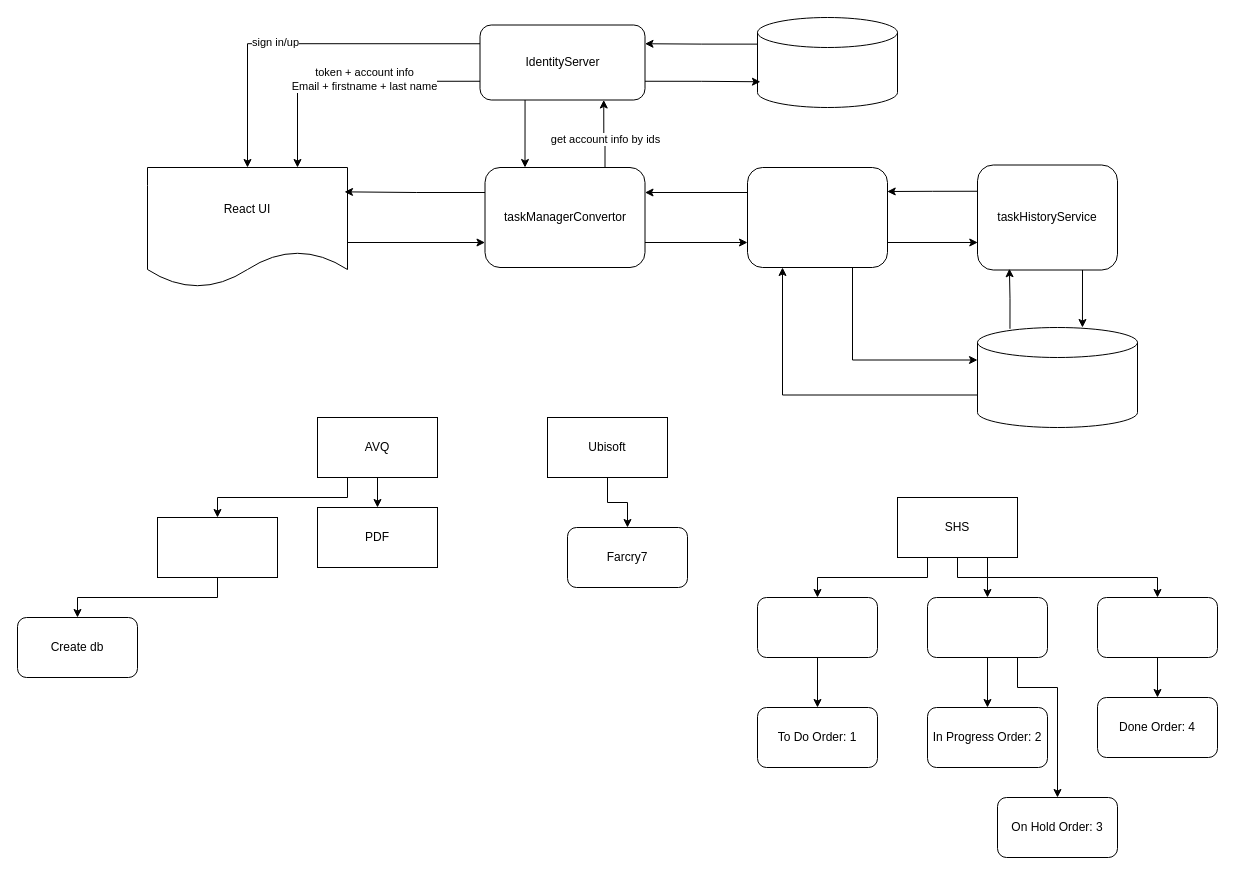
Image size: 1235x875. Some labels were removed from this diagram. Each missing label, with the centre of its shape:
DBA: [217,547]
Done: [1157,627]
IdentityServerDb: [827,62]
In Progress: [987,627]
taskManagerApi: [817,217]
TaskManagerDb: [1057,377]
To Do: [817,627]
